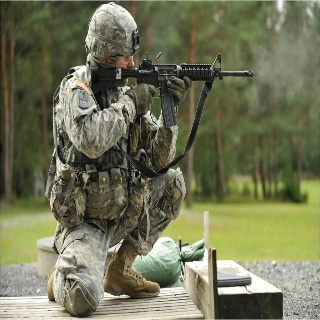rifle: (87, 53, 257, 130)
